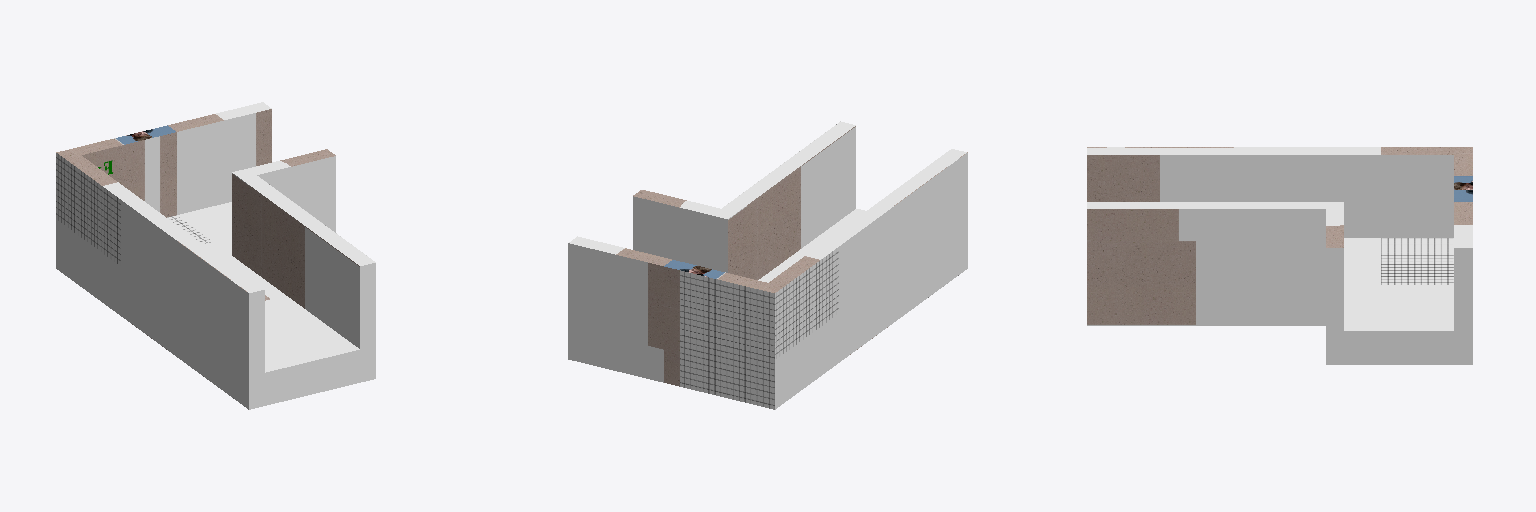
3 views of the same model, side by side, from view 1: azimuth 30°, elevation 25°; view 2: azimuth 150°, elevation 25°; view 3: azimuth 270°, elevation 25° (orthographic).
Parts seen in each view (by area): view 1: Cube.010; view 2: Cube.010; view 3: Cube.010.
Part boxes in pixels (bbox=[...]): Cube.010: bbox=[56, 102, 375, 409]; Cube.010: bbox=[568, 121, 967, 409]; Cube.010: bbox=[1087, 147, 1472, 364].
Bounding box in the file's own units: 13 × 7 × 21.
1 materials, 1 textured.